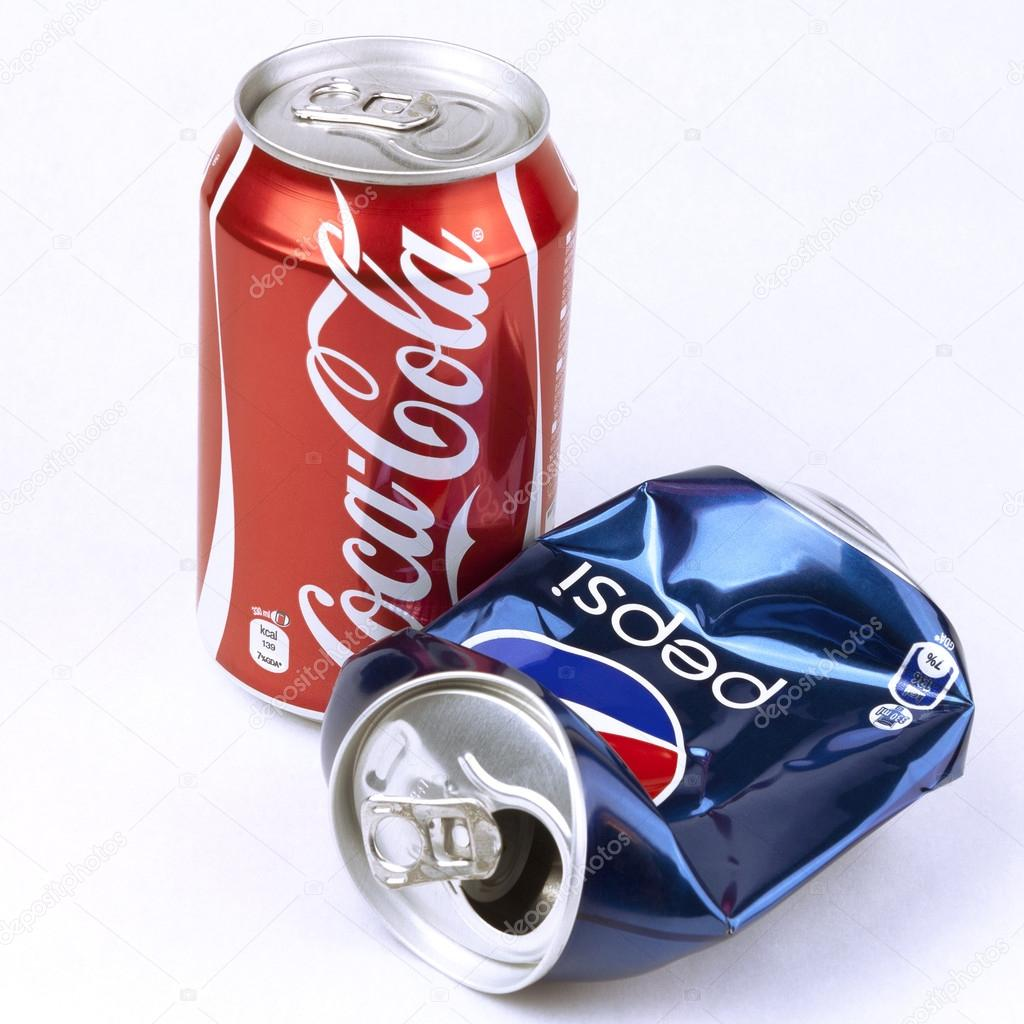can: (305, 444, 988, 1005), (179, 9, 575, 727)
